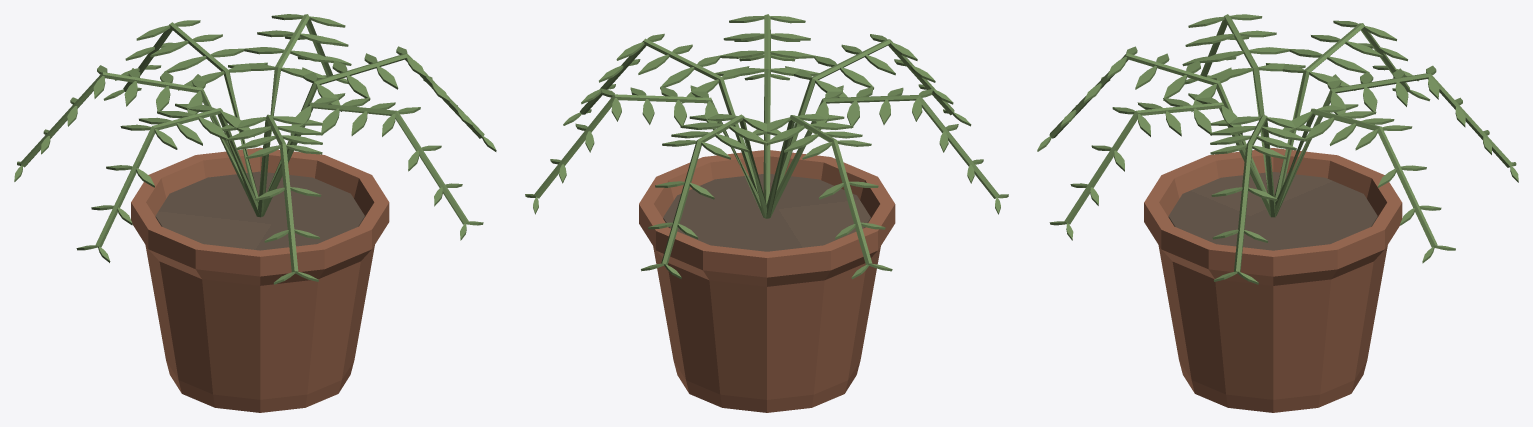
Rendered from fern.glb.
3 views of the same model, side by side, from view 1: azimuth 30°, elevation 25°; view 2: azimuth 150°, elevation 25°; view 3: azimuth 270°, elevation 25° (orthographic).
Visible parts, largest first — view 1: fern/review-terra-vessel, fern/review-rooted-soil, fern/frond-rachis-031, fern/frond-rachis-061, fern/frond-rachis-016, fern/frond-rachis-046, fern/frond-rachis-001, fern/frond-rachis-076, fern/frond-rachis-091; view 2: fern/review-terra-vessel, fern/review-rooted-soil, fern/frond-rachis-031, fern/frond-rachis-016, fern/frond-rachis-091, fern/frond-rachis-001, fern/frond-rachis-076, fern/frond-rachis-046, fern/frond-rachis-061; view 3: fern/review-terra-vessel, fern/review-rooted-soil, fern/frond-rachis-061, fern/frond-rachis-091, fern/frond-rachis-001, fern/frond-rachis-076, fern/frond-rachis-016, fern/frond-rachis-046, fern/frond-rachis-031.
Part boxes in pixels (x1,y1,x2,y2): fern/review-terra-vessel: [131, 147, 389, 412]; fern/review-rooted-soil: [155, 171, 364, 250]; fern/frond-rachis-031: [95, 108, 259, 247]; fern/frond-rachis-061: [261, 102, 468, 224]; fern/frond-rachis-016: [20, 72, 256, 215]; fern/frond-rachis-046: [258, 114, 298, 272]; fern/frond-rachis-001: [123, 22, 258, 201]; fern/frond-rachis-076: [267, 53, 484, 191]; fern/frond-rachis-091: [269, 14, 332, 146]; fern/review-terra-vessel: [639, 150, 895, 412]; fern/review-rooted-soil: [663, 174, 870, 251]; fern/frond-rachis-031: [770, 95, 999, 217]; fern/frond-rachis-016: [766, 115, 872, 264]; fern/frond-rachis-091: [534, 94, 764, 217]; fern/frond-rachis-001: [661, 114, 766, 264]; fern/frond-rachis-076: [580, 38, 758, 194]; fern/frond-rachis-046: [776, 39, 954, 190]; fern/frond-rachis-061: [763, 14, 770, 204]; fern/review-terra-vessel: [1144, 148, 1402, 412]; fern/review-rooted-soil: [1168, 172, 1377, 250]; fern/frond-rachis-061: [1064, 102, 1270, 224]; fern/frond-rachis-091: [1275, 108, 1437, 247]; fern/frond-rachis-001: [1276, 73, 1512, 215]; fern/frond-rachis-076: [1234, 114, 1275, 272]; fern/frond-rachis-016: [1274, 23, 1410, 201]; fern/frond-rachis-046: [1049, 53, 1269, 215]; fern/frond-rachis-031: [1200, 14, 1268, 193].
Size of the model in its own units: 0.3577 by 0.2412 by 0.3546.
Materials: 3 (3 with a texture image).
